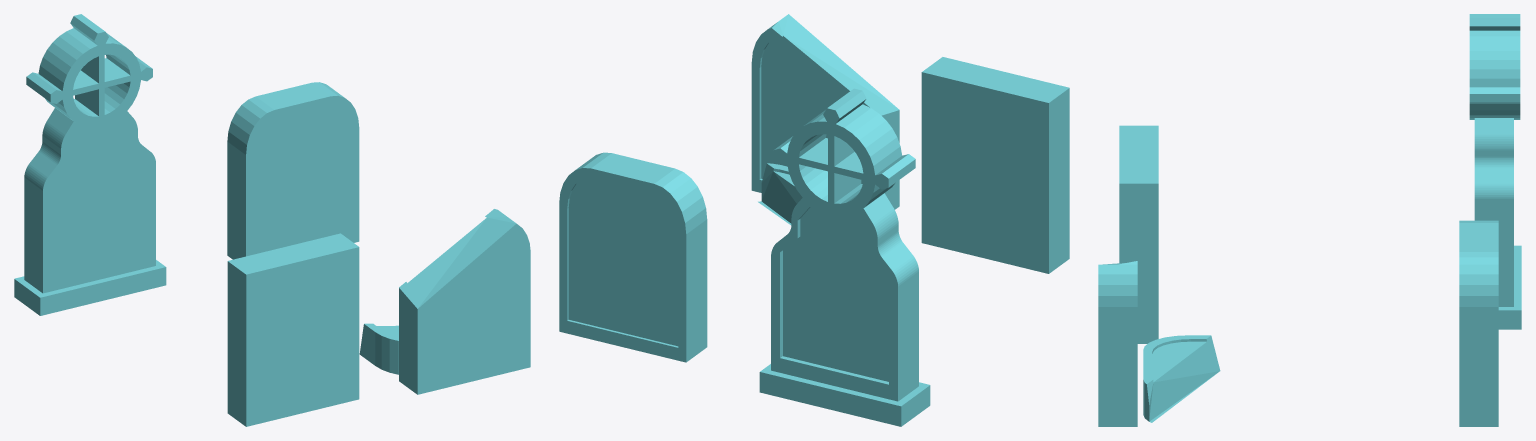
File: Total Assets2.fbx_Headstone04.fbx
3 views of the same model, side by side, from view 1: azimuth 30°, elevation 25°; view 2: azimuth 150°, elevation 25°; view 3: azimuth 270°, elevation 25° (orthographic). The views are drawn at different scales.
Visible parts, largest first — view 1: Headstones_4, Headstones_4_003, Headstones_4_002, Headstones_4_001; view 2: Headstones_4, Headstones_4_003, Headstones_4_002, Headstones_4_001; view 3: Headstones_4, Headstones_4_001, Headstones_4_002, Headstones_4_003.
Boxes of the visible parts, <box> form: Headstones_4: <box>14,14,166,315</box>; Headstones_4_003: <box>227,233,359,426</box>; Headstones_4_002: <box>227,82,359,259</box>; Headstones_4_001: <box>359,209,530,394</box>; Headstones_4: <box>759,88,930,426</box>; Headstones_4_003: <box>921,57,1069,273</box>; Headstones_4_002: <box>559,152,707,362</box>; Headstones_4_001: <box>751,14,899,225</box>; Headstones_4: <box>1469,14,1521,329</box>; Headstones_4_001: <box>1098,261,1220,426</box>; Headstones_4_002: <box>1459,220,1498,426</box>; Headstones_4_003: <box>1119,125,1158,343</box>.
Size of the model in its own units: 195 by 159 by 215.
